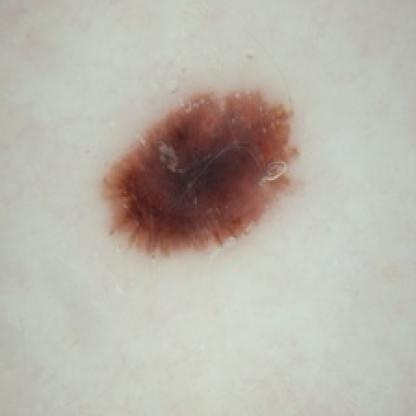malignant: (104, 58, 277, 256)
